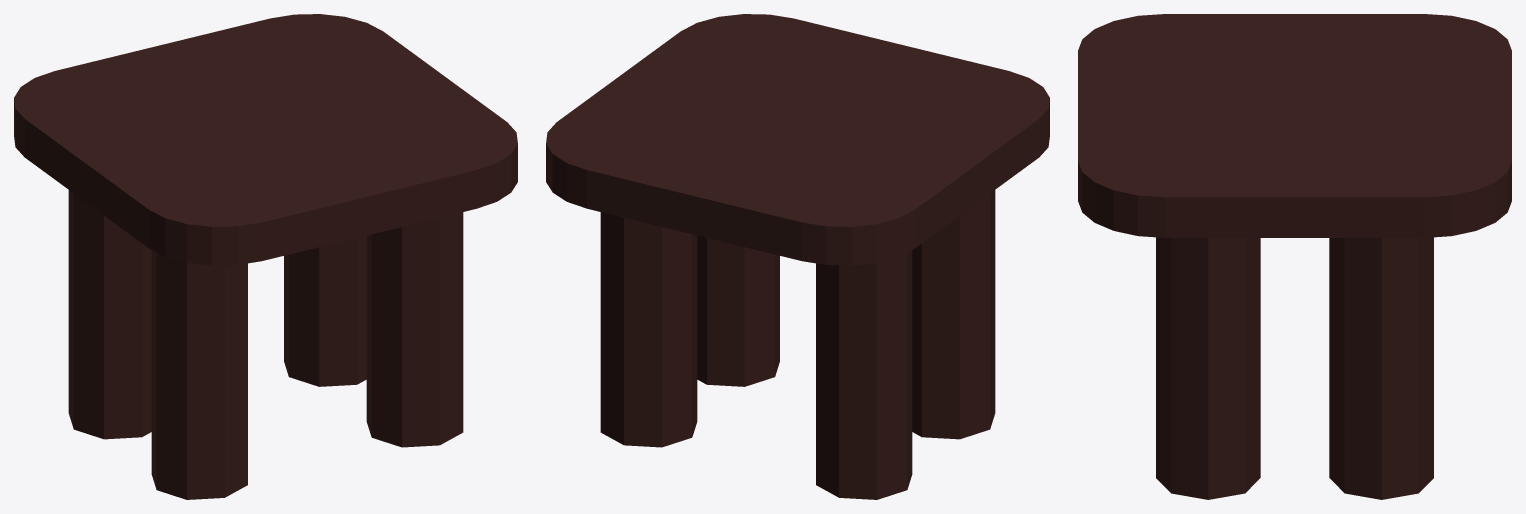
Rendered from mesa cocina.gltf.
The picture shows the model from 3 angles, left to right: view 1: azimuth 30°, elevation 25°; view 2: azimuth 150°, elevation 25°; view 3: azimuth 270°, elevation 25°; orthographic projection. The views are drawn at different scales.
Parts seen in each view (by area): view 1: Cube; view 2: Cube; view 3: Cube.
Part boxes in pixels (box(x1,y1,x2,y2)): Cube: box(14, 14, 517, 499); Cube: box(546, 14, 1049, 499); Cube: box(1078, 14, 1511, 499).
Bounding box in the file's own units: 3.29 × 2.66 × 3.29.
